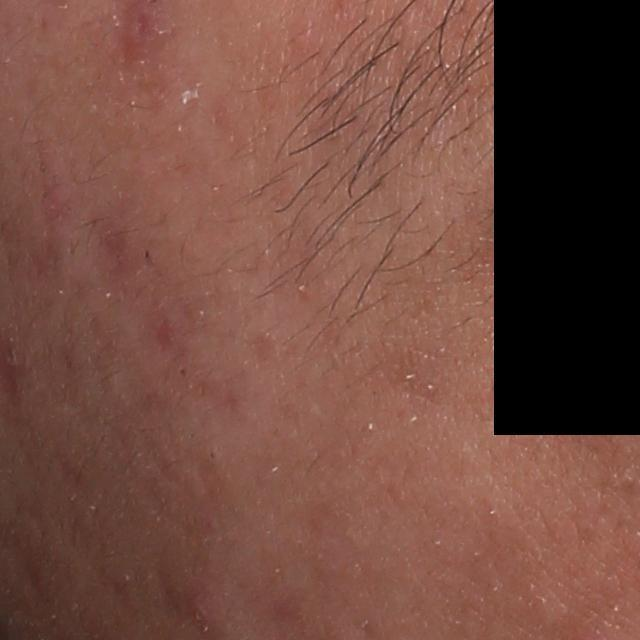papule: (181, 571, 221, 627)
